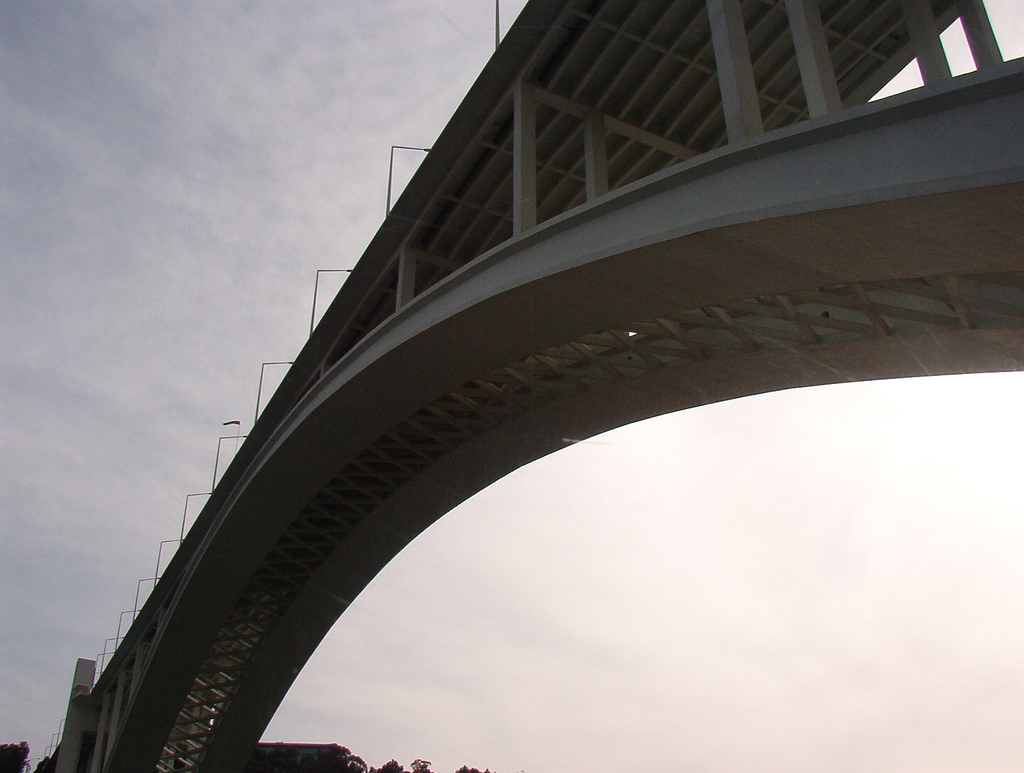arrabida: (29, 0, 1023, 772)
